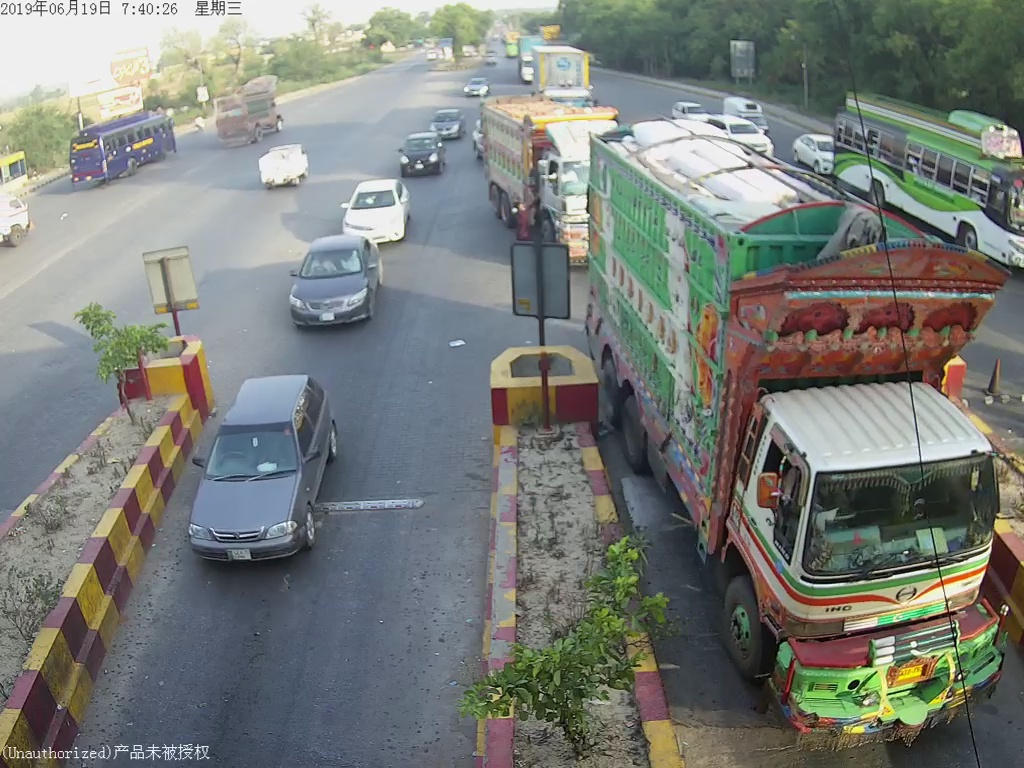Cat-1: (192, 361, 343, 568), (285, 239, 377, 320), (339, 178, 404, 242)
Cat-4: (589, 124, 1012, 742), (487, 103, 584, 234)
